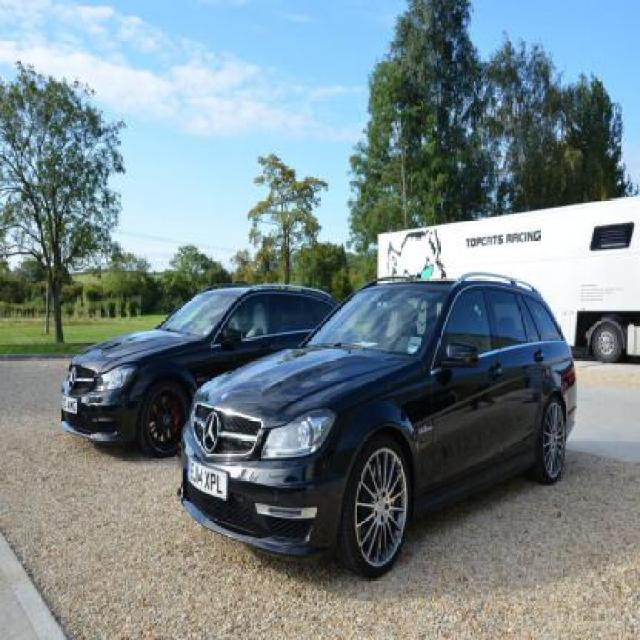License-Plates: (187, 456, 230, 502), (61, 394, 78, 414)
